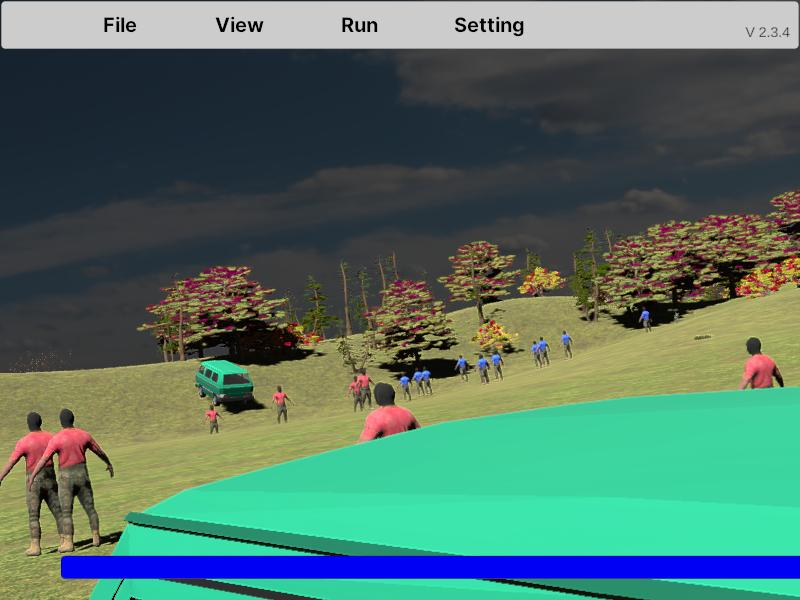Human: (29, 408, 114, 551), (0, 411, 78, 555)
car: (78, 414, 734, 600), (195, 360, 254, 411)
